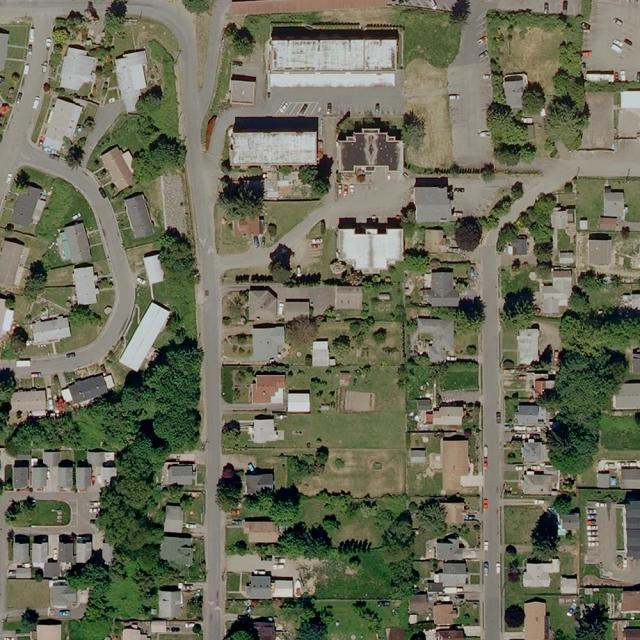building: (266, 26, 401, 88), (4, 448, 117, 493), (117, 299, 173, 373), (338, 216, 404, 274), (9, 534, 101, 568), (230, 131, 318, 166), (337, 128, 404, 173), (37, 96, 84, 159), (159, 503, 201, 568), (410, 317, 458, 365), (56, 43, 100, 94), (9, 179, 50, 231), (115, 50, 148, 112), (52, 219, 93, 268), (98, 143, 138, 193), (413, 176, 454, 223), (535, 266, 573, 316), (441, 433, 470, 494), (5, 386, 50, 424), (122, 191, 156, 240), (598, 184, 629, 233), (70, 261, 101, 307), (431, 599, 465, 640), (28, 314, 72, 345), (246, 570, 293, 599), (67, 373, 108, 405), (524, 554, 561, 588), (252, 324, 285, 361), (499, 71, 529, 111), (433, 558, 469, 591), (242, 515, 280, 545), (251, 372, 286, 404), (247, 285, 278, 321), (246, 413, 278, 446), (160, 460, 196, 486), (524, 598, 546, 639), (245, 467, 275, 496), (516, 329, 540, 365), (230, 74, 256, 106), (521, 471, 554, 495), (435, 534, 464, 561), (587, 232, 611, 264), (252, 613, 280, 640), (612, 383, 640, 410), (50, 580, 76, 609), (231, 216, 265, 238), (159, 585, 181, 619), (143, 250, 164, 285), (431, 268, 454, 298), (521, 439, 549, 463), (334, 286, 363, 309), (515, 404, 546, 425), (424, 226, 448, 253), (432, 406, 464, 426), (440, 502, 465, 525), (284, 299, 310, 321), (522, 570, 552, 589), (430, 291, 460, 308), (406, 592, 429, 614), (312, 339, 330, 367), (288, 390, 310, 412), (534, 378, 555, 398), (551, 206, 569, 229), (0, 27, 9, 71), (560, 575, 579, 595), (510, 236, 528, 255), (44, 559, 61, 578), (620, 625, 640, 640), (410, 447, 427, 464), (150, 618, 168, 634), (595, 470, 610, 489), (559, 251, 574, 267), (416, 398, 432, 412)
dryland: (404, 58, 453, 168), (319, 6, 399, 26)
greenland: (87, 328, 202, 617), (510, 285, 640, 480), (97, 101, 195, 198), (445, 169, 530, 256), (543, 26, 597, 152), (350, 261, 408, 372), (4, 406, 137, 454), (316, 547, 420, 599), (386, 5, 464, 70), (487, 1, 593, 47), (33, 177, 95, 250), (300, 490, 411, 530), (482, 94, 539, 170), (65, 559, 117, 640), (397, 352, 480, 401), (145, 39, 179, 137), (515, 191, 557, 264), (242, 484, 304, 529), (46, 3, 104, 50), (294, 149, 345, 199), (166, 268, 200, 342), (500, 266, 539, 329), (280, 444, 336, 487), (5, 496, 71, 526), (431, 297, 486, 333), (277, 522, 333, 557), (219, 175, 262, 219), (221, 16, 260, 60), (214, 462, 244, 512), (382, 508, 417, 550), (131, 83, 170, 120), (4, 605, 45, 640), (576, 601, 611, 640), (21, 258, 52, 302), (225, 538, 284, 561), (415, 497, 448, 535), (530, 508, 560, 549), (487, 219, 522, 253), (0, 372, 16, 443), (161, 231, 190, 270), (401, 111, 428, 150), (522, 81, 546, 114), (490, 57, 506, 103), (404, 249, 430, 272)
metalled_road: (17, 135, 140, 375), (491, 124, 640, 222), (0, 12, 64, 209), (479, 230, 505, 640), (266, 70, 409, 131), (297, 159, 414, 233), (446, 0, 494, 168), (65, 91, 129, 169), (280, 196, 344, 258), (449, 173, 504, 218), (28, 486, 102, 516), (0, 0, 86, 22), (214, 246, 273, 274), (6, 518, 98, 535), (9, 353, 40, 383), (6, 491, 24, 499)
